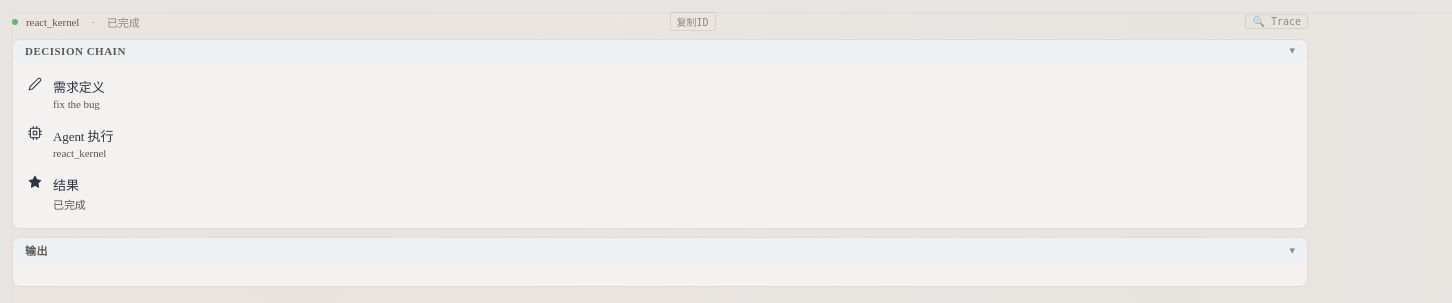
Scenario: AgentMessage — copy session id › copies the session id to clipboard on click and shows 已复制 feedback
Click the button "复制ID": (692, 22) x1=670 y1=12 x2=716 y2=31
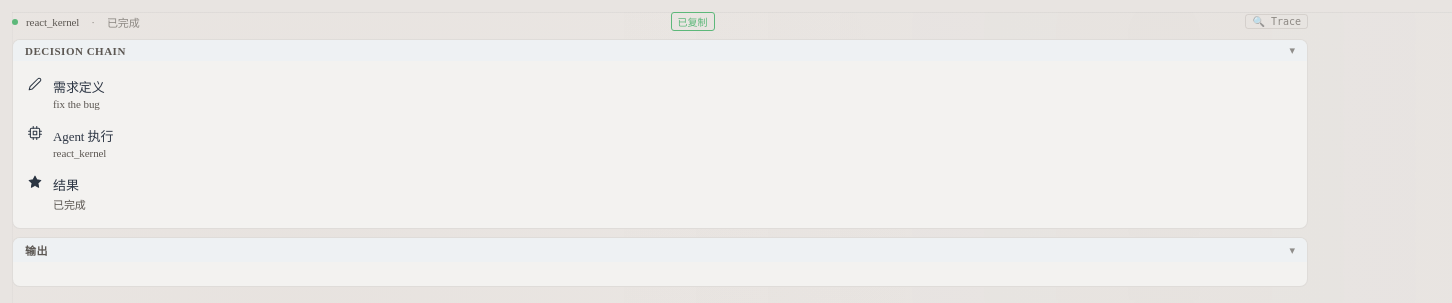
Expected: the button "已复制" is shown, x1=670 y1=12 x2=714 y2=31
